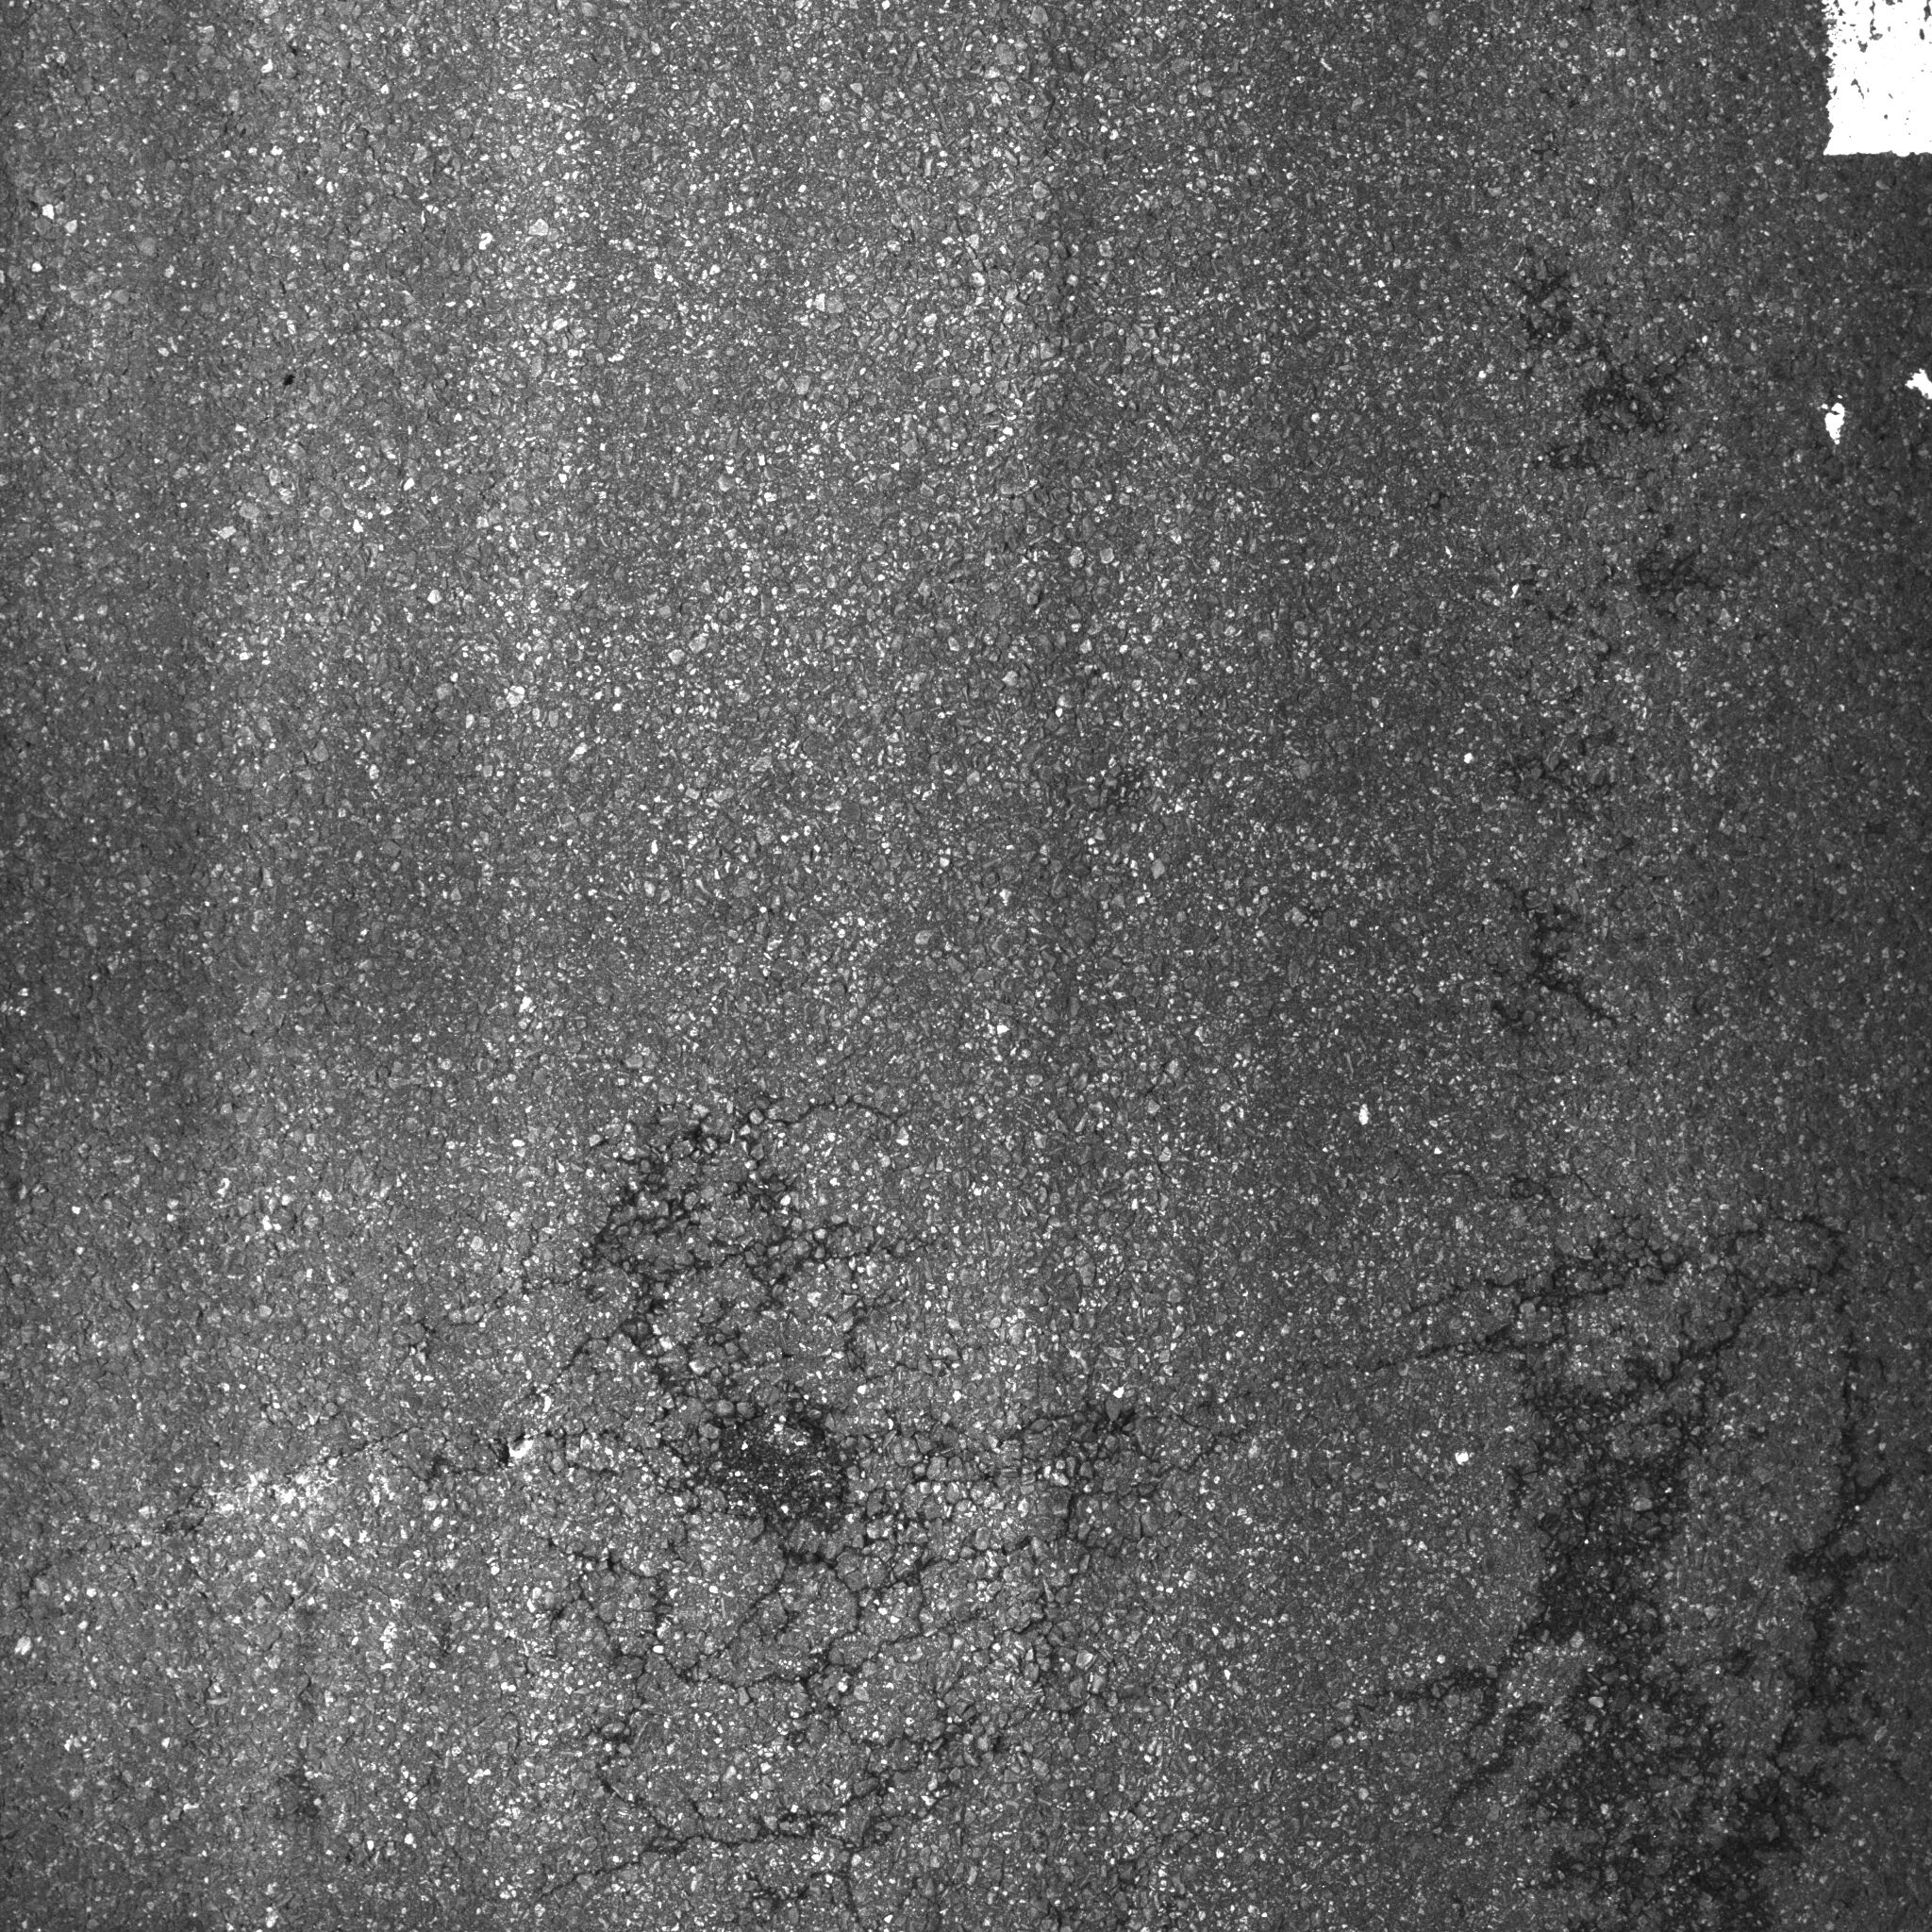alligator: (311, 1047, 1875, 1932)
